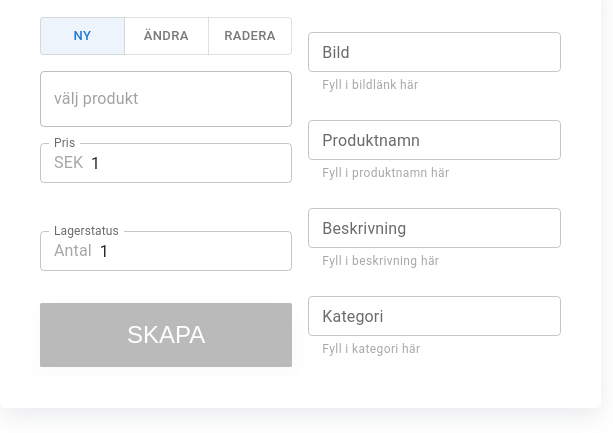
AdminCms Component › should switch the button to "uppdatera", and render "sök på en produkt" input in update mode (switch component clicked once and mode is set to update)
Expected: the dropdown labelled "välj produkt" is disabled, left=49, top=80, right=283, bottom=118
Click the button "ÄNDRA": [166, 36] box left=124, top=17, right=209, bottom=56
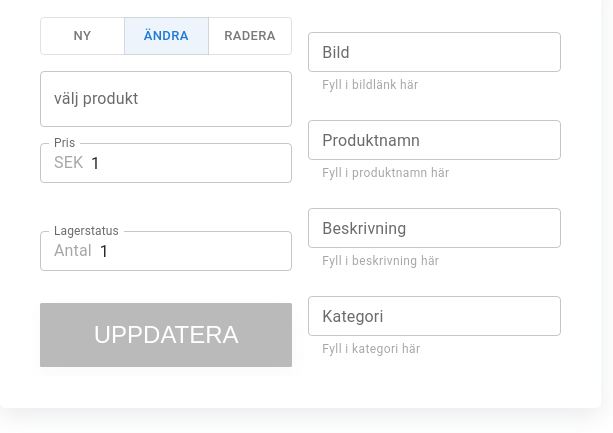
Now the button "uppdatera" is shown, box left=40, top=303, right=292, bottom=367
Now the dropdown labelled "välj produkt" is enabled, box left=49, top=80, right=283, bottom=118
